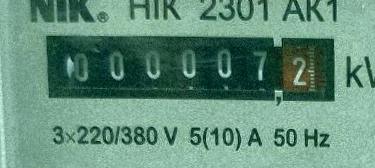0: (140, 45, 164, 84), (69, 49, 92, 84), (178, 46, 199, 84), (212, 45, 234, 81), (106, 48, 127, 83)
2: (288, 53, 310, 90)
7: (248, 47, 270, 85)
screen: (39, 25, 344, 112)
